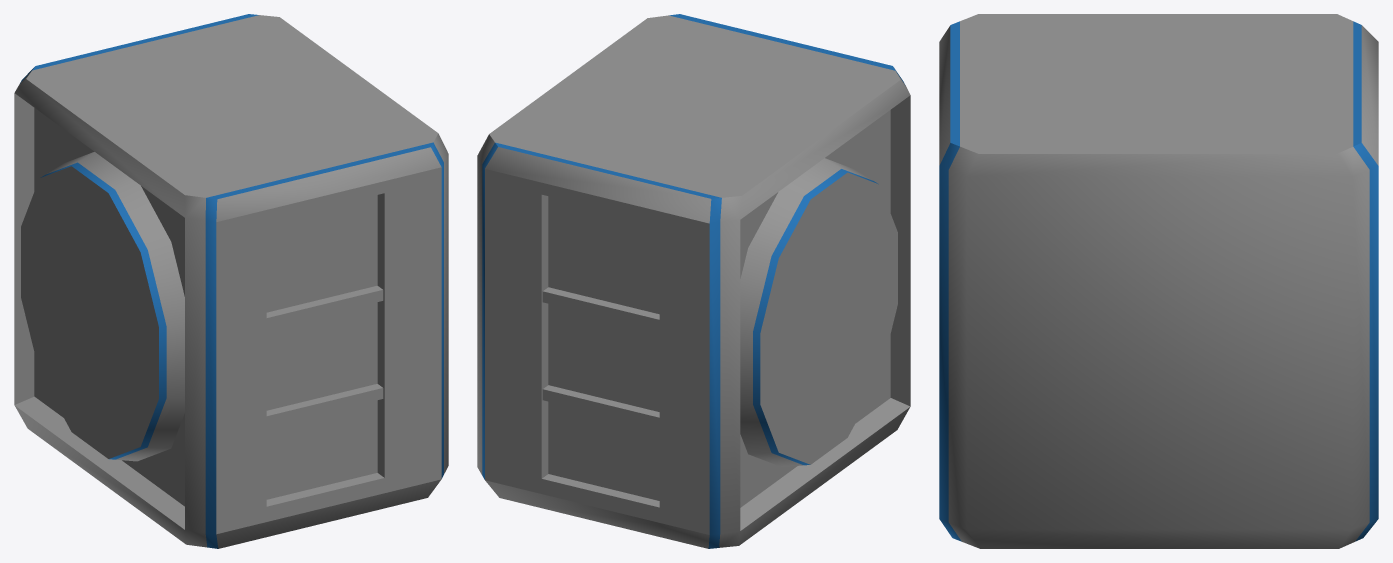
Rendered from vent_4.fbx.
3 renders of one model, left to right at view 1: azimuth 30°, elevation 25°; view 2: azimuth 150°, elevation 25°; view 3: azimuth 270°, elevation 25°, orthographic. The views are drawn at different scales.
Visible parts, largest first — view 1: vent_4; view 2: vent_4; view 3: vent_4.
Boxes of the visible parts, x1=… form: vent_4: x1=14, y1=14, x2=448, y2=548; vent_4: x1=477, y1=14, x2=910, y2=548; vent_4: x1=939, y1=14, x2=1378, y2=548.
Bounding box in the file's own units: 0.7866 × 0.9758 × 0.9802.
